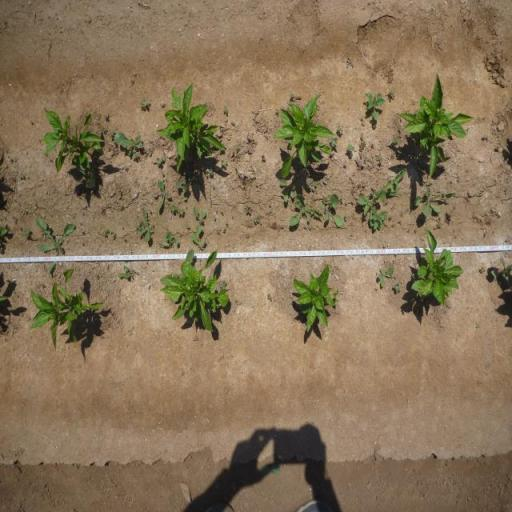plant: (34, 220, 72, 254), (358, 190, 386, 228), (362, 88, 386, 127), (113, 135, 143, 159), (320, 196, 342, 226), (295, 200, 317, 224), (136, 214, 153, 244), (385, 170, 405, 195), (422, 189, 440, 215), (152, 185, 171, 206), (376, 265, 392, 285), (190, 231, 208, 247), (118, 266, 134, 282), (390, 282, 402, 300), (103, 226, 116, 242), (162, 234, 176, 248), (194, 210, 208, 223), (141, 100, 150, 110)
weed: (32, 112, 108, 191), (400, 74, 455, 164), (169, 258, 229, 329), (162, 86, 206, 180), (280, 104, 327, 183), (282, 272, 340, 331), (412, 237, 460, 307), (36, 290, 92, 338)
